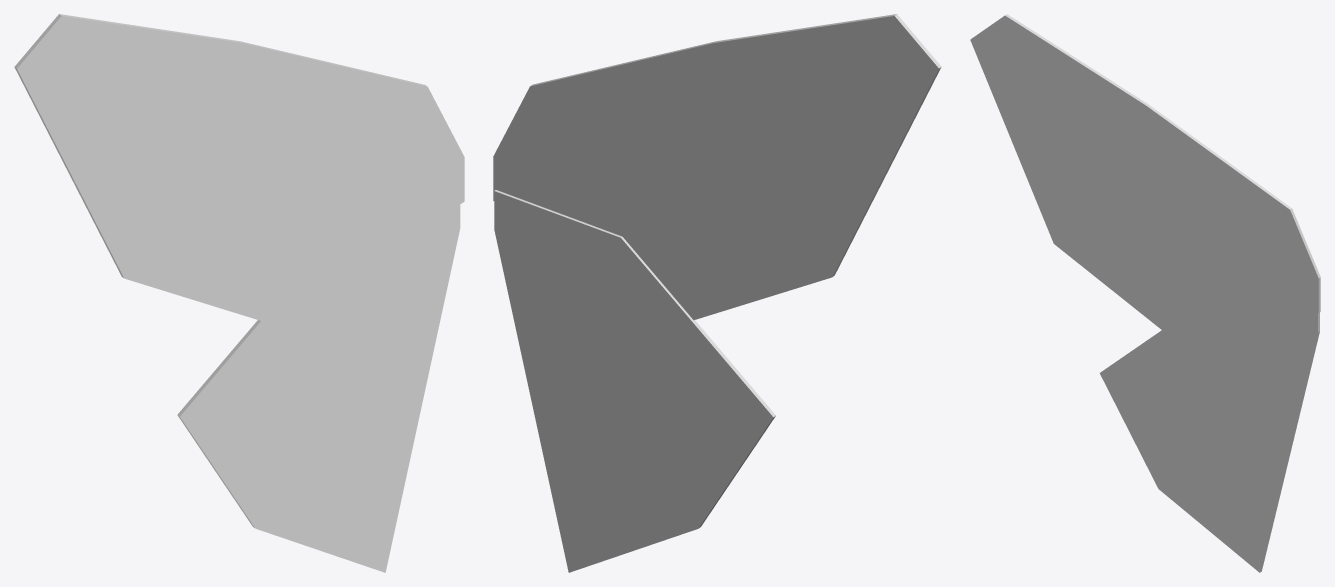
File: MOB_moth_WingL.obj
The picture shows the model from 3 angles, left to right: view 1: azimuth 30°, elevation 25°; view 2: azimuth 150°, elevation 25°; view 3: azimuth 330°, elevation 25°; orthographic projection. The views are drawn at different scales.
Visible parts, largest first — view 1: MOB_moth_WingL3:HANE_L1group1, MOB_moth_WingL3:HANE_L1HANNE_L2; view 2: MOB_moth_WingL3:HANE_L1group1, MOB_moth_WingL3:HANE_L1HANNE_L2; view 3: MOB_moth_WingL3:HANE_L1group1, MOB_moth_WingL3:HANE_L1HANNE_L2.
Boxes of the visible parts, x1,y1,x2,y2 form: MOB_moth_WingL3:HANE_L1group1: (14, 14, 464, 323); MOB_moth_WingL3:HANE_L1HANNE_L2: (177, 204, 460, 572); MOB_moth_WingL3:HANE_L1group1: (493, 14, 941, 319); MOB_moth_WingL3:HANE_L1HANNE_L2: (494, 190, 775, 572); MOB_moth_WingL3:HANE_L1group1: (970, 14, 1320, 333); MOB_moth_WingL3:HANE_L1HANNE_L2: (1099, 312, 1319, 572).
Bounding box in the file's own units: 0.4798 × 0.6532 × 0.00792.
1 material, 1 textured.
